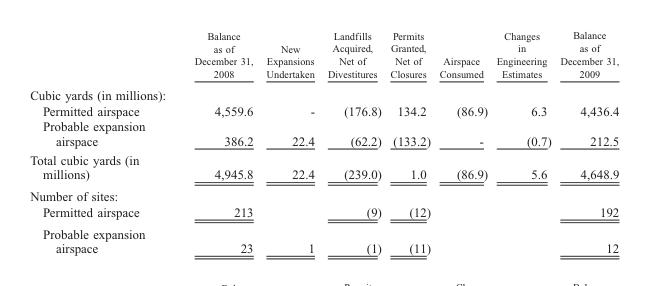table: (29, 29, 618, 254)
table column: (29, 29, 169, 254), (169, 29, 259, 254), (320, 29, 385, 254), (491, 29, 555, 254), (555, 29, 618, 254), (259, 29, 320, 254), (434, 29, 491, 254), (385, 29, 434, 254)
table column header: (29, 29, 618, 83)
table projected row header: (29, 83, 618, 102), (29, 184, 618, 203)
table row: (29, 29, 618, 83), (29, 149, 618, 184), (29, 222, 618, 254), (29, 118, 618, 149), (29, 83, 618, 102), (29, 184, 618, 203), (29, 203, 618, 222), (29, 102, 618, 118)
